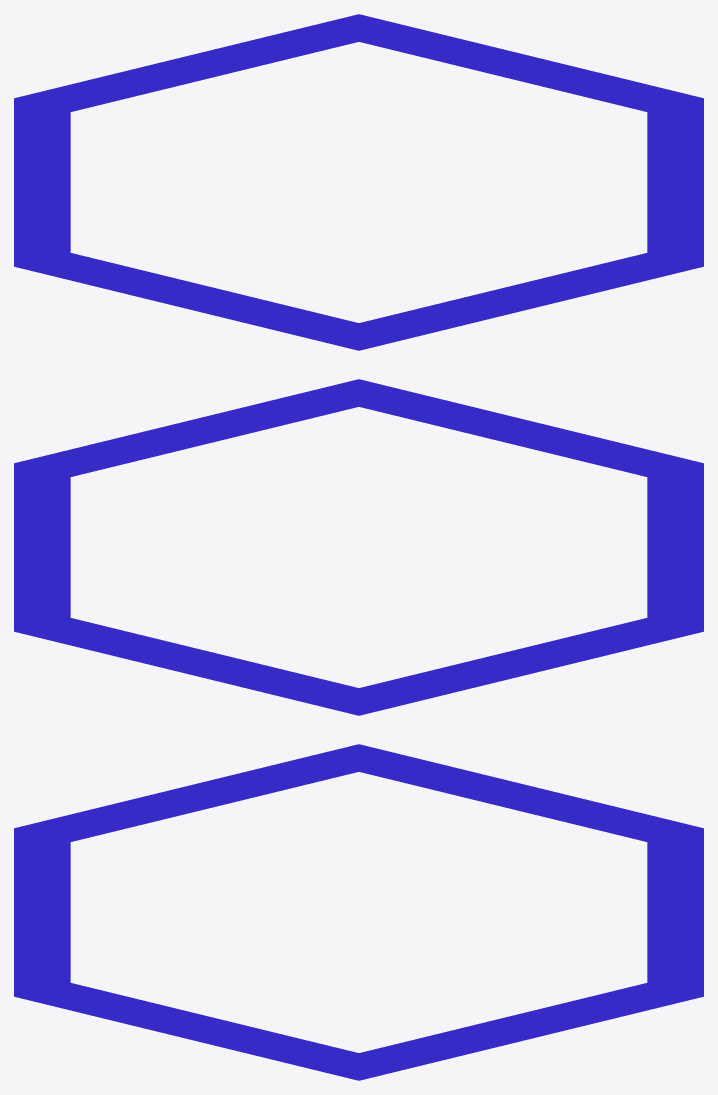
File: hex_border.FBX
3 views of the same model, one above another, from view 1: azimuth 30°, elevation 25°; view 2: azimuth 150°, elevation 25°; view 3: azimuth 270°, elevation 25° (orthographic).
Parts seen in each view (by area): view 1: hex_border; view 2: hex_border; view 3: hex_border.
Boxes of the visible parts, left/top/right/bottom form: hex_border: left=14, top=14, right=703, bottom=350; hex_border: left=14, top=379, right=703, bottom=715; hex_border: left=14, top=744, right=703, bottom=1080.
Bounding box in the file's own units: 1.15 × 6.11e-17 × 0.998.
